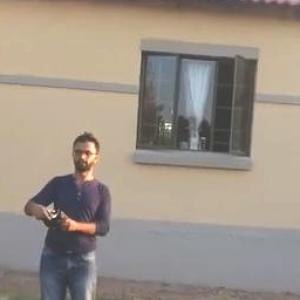follow: (18, 119, 117, 299)
